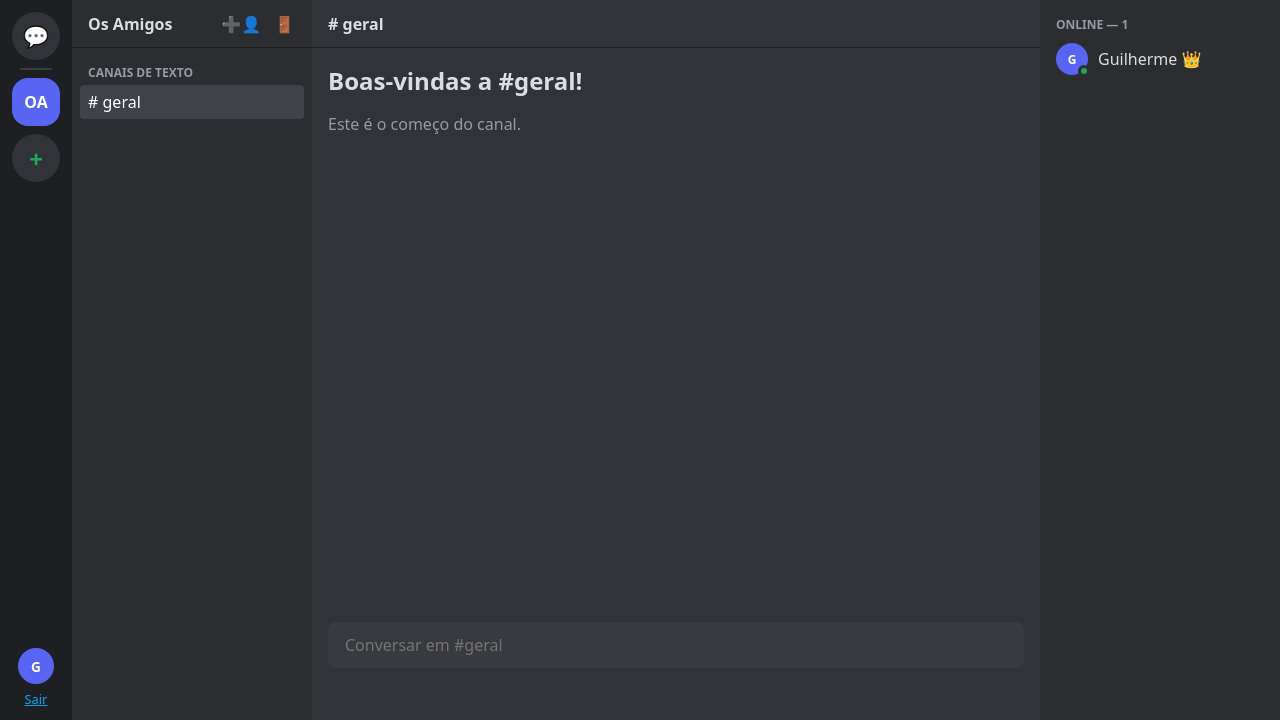
membros e presença › quem não é dono vê "Sair do servidor" e sai
Click the button named "Sair do servidor" at (284, 24), box [269, 10, 300, 37]
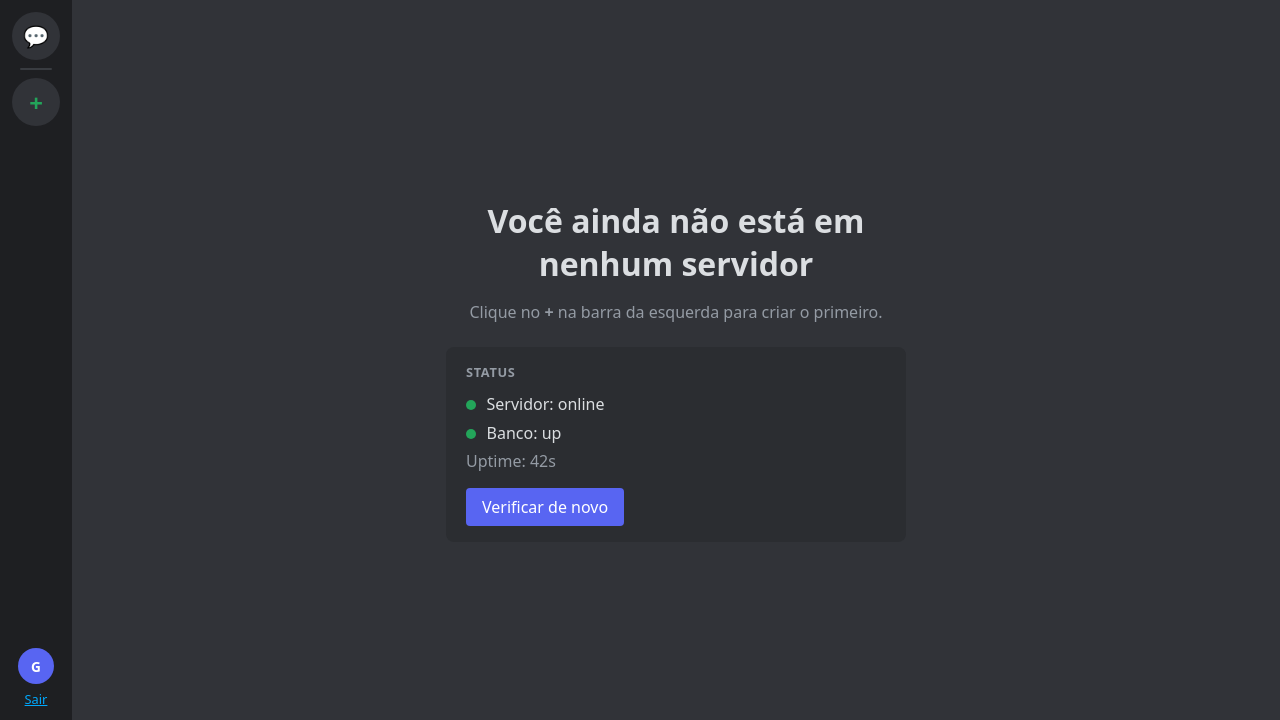
Expected: the heading "Você ainda não está em nenhum servidor" is shown, [488, 199, 864, 285]
